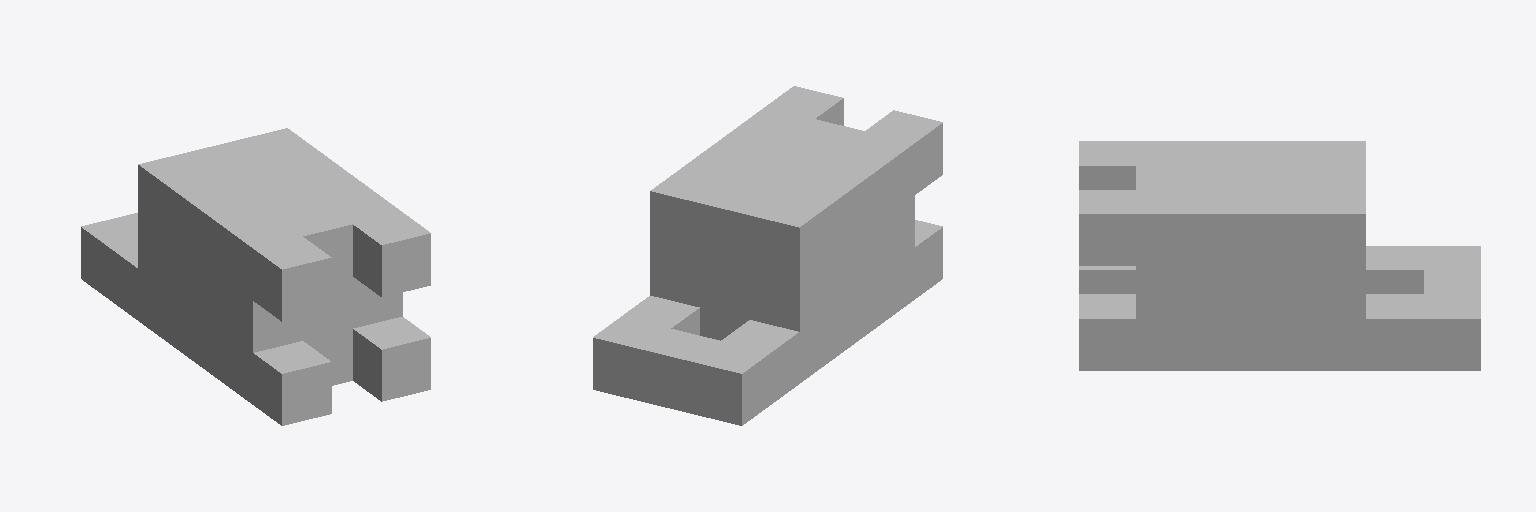
File: Gsuitcase.obj
The picture shows the model from 3 angles: view 1: azimuth 30°, elevation 25°; view 2: azimuth 150°, elevation 25°; view 3: azimuth 270°, elevation 25°; orthographic projection.
Visible parts, largest first — view 1: object 1; view 2: object 1; view 3: object 1.
Part boxes in pixels (left/top/right/bottom): object 1: left=81, top=128, right=430, bottom=425; object 1: left=593, top=86, right=942, bottom=425; object 1: left=1079, top=141, right=1480, bottom=370.
Size of the model in its own units: 0.3 by 0.3 by 0.7.